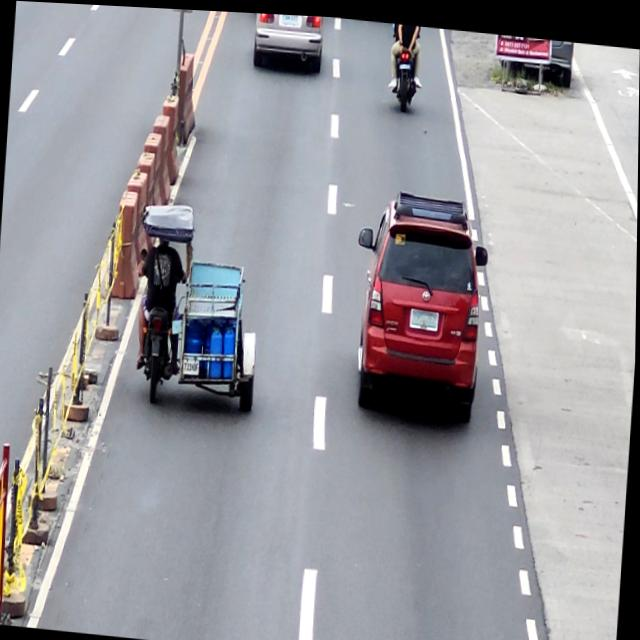Car: (350, 183, 493, 419), (251, 10, 326, 72)
License-Plate: (413, 305, 438, 324), (184, 356, 201, 374), (280, 11, 298, 22)
Tricycle: (131, 201, 270, 413)
